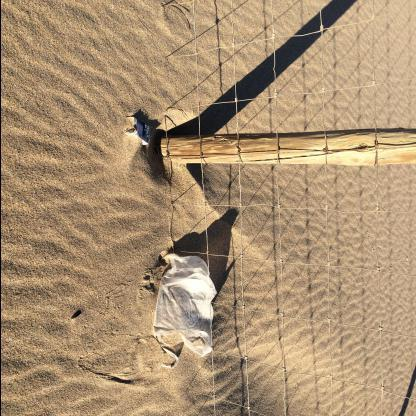karton: (125, 117, 153, 146)
plastik: (154, 254, 218, 370)
